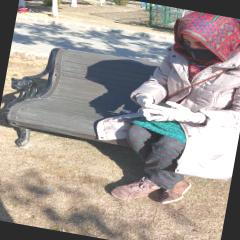gloved: (148, 99, 198, 128), (134, 92, 155, 119)
